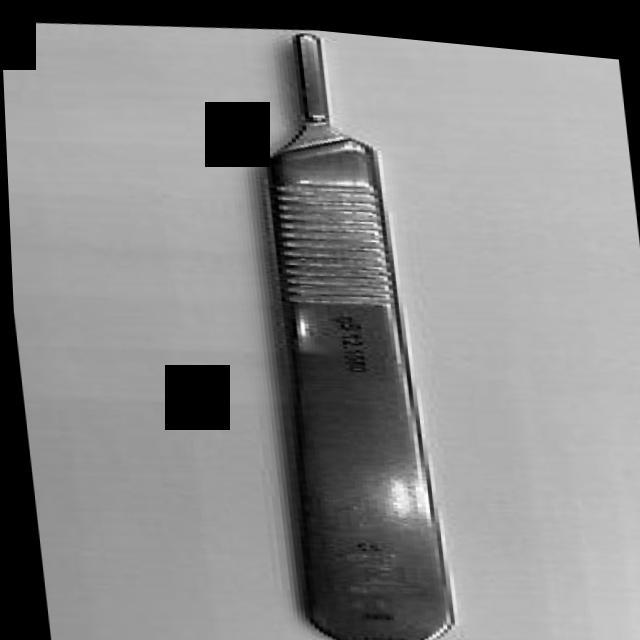Surgical blade: (217, 16, 464, 640)
